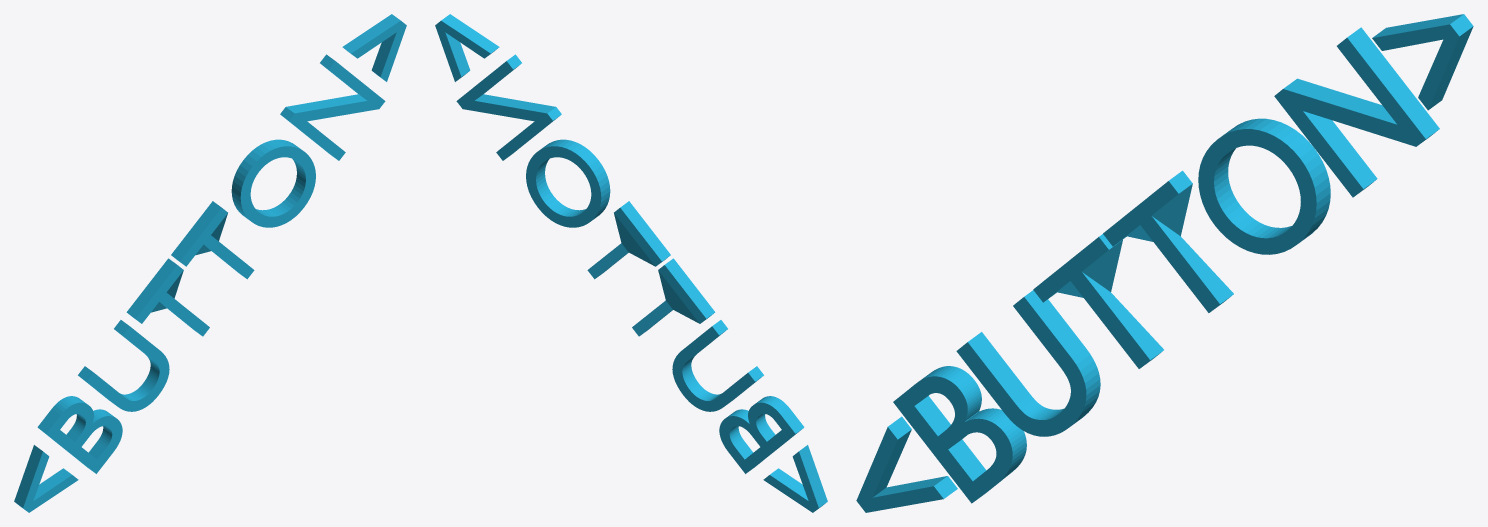
The model's file is BUTTONMODEL.glb.
3 views of the same model, side by side, from view 1: azimuth 30°, elevation 25°; view 2: azimuth 150°, elevation 25°; view 3: azimuth 330°, elevation 25° (orthographic). The views are drawn at different scales.
Parts seen in each view (by area): view 1: Text; view 2: Text; view 3: Text.
Boxes of the visible parts, x1,y1,x2,y2 form: Text: (14,14,406,512); Text: (435,14,827,512); Text: (856,14,1473,512).
Size of the model in its own units: 3.69 by 3.69 by 0.1501.
